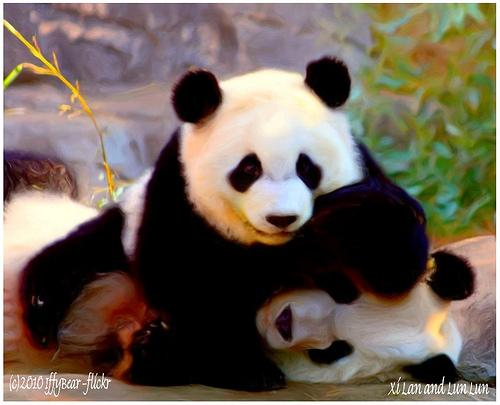panda: (18, 57, 475, 391)
